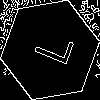L: (25, 25, 75, 67)
